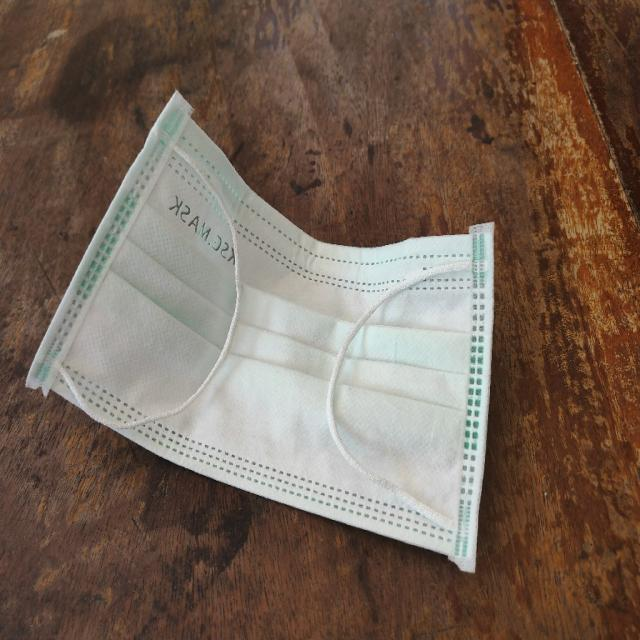non-organic waste: (52, 115, 506, 582)
